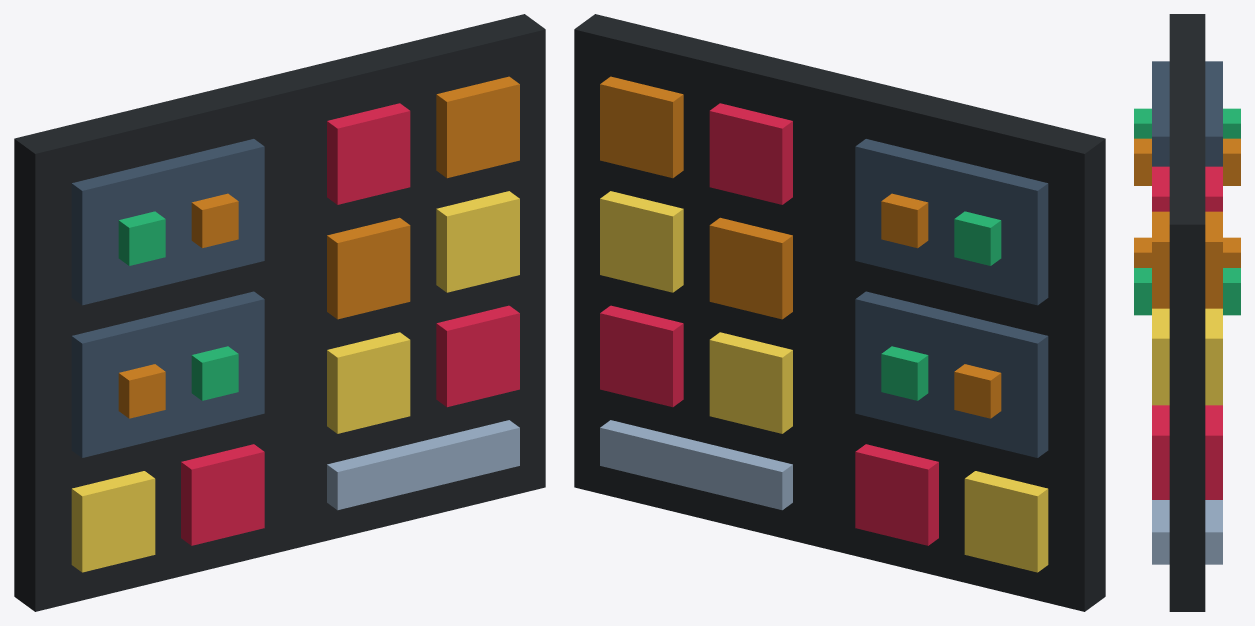
Rendered from Control Panel 3.glb.
The picture shows the model from 3 angles, left to right: view 1: azimuth 30°, elevation 25°; view 2: azimuth 150°, elevation 25°; view 3: azimuth 270°, elevation 25°; orthographic projection. The views are drawn at different scales.
Parts seen in each view (by area): view 1: generated(Clone); view 2: generated(Clone); view 3: generated(Clone).
Boxes of the visible parts, left/top/right/bottom form: generated(Clone): left=14, top=14, right=545, bottom=611; generated(Clone): left=574, top=14, right=1105, bottom=611; generated(Clone): left=1134, top=14, right=1240, bottom=611.
Bounding box in the file's own units: 14 × 12 × 3.
Materials: 1 (1 with a texture image).
